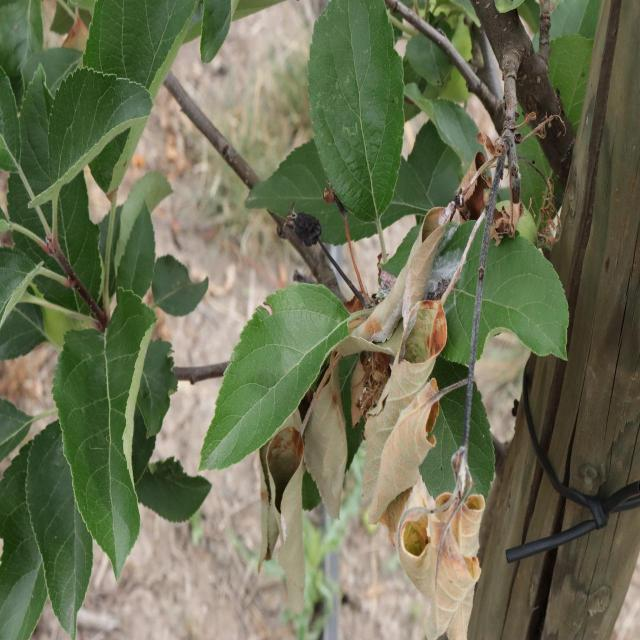-FireBlight-: (217, 145, 540, 640)
